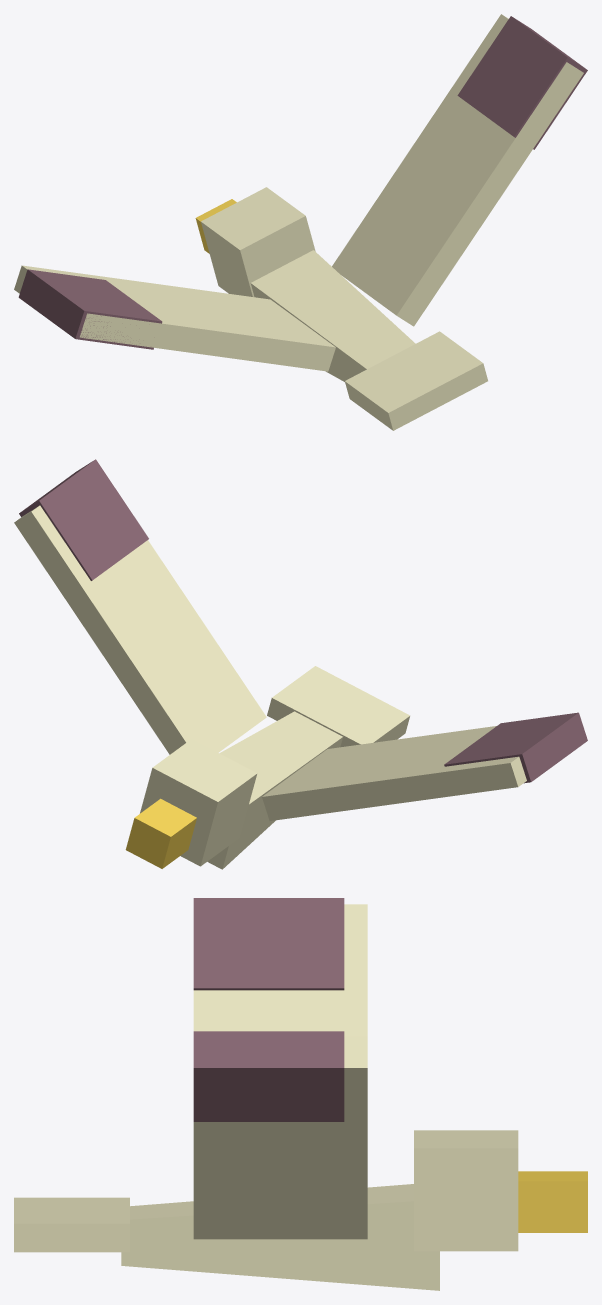
The model's file is gull.glb.
3 renders of one model, top to bottom at view 1: azimuth 30°, elevation 25°; view 2: azimuth 150°, elevation 25°; view 3: azimuth 270°, elevation 25°, orthographic. The views are drawn at different scales.
Visible parts, largest first — view 1: WingL, Body, WingR; view 2: WingL, Body, WingR; view 3: Body, WingL, WingR.
Boxes of the visible parts, bbox=[...] form: WingL: bbox=[332, 14, 587, 326]; Body: bbox=[195, 187, 487, 430]; WingR: bbox=[14, 265, 335, 371]; WingL: bbox=[14, 459, 266, 754]; Body: bbox=[125, 666, 409, 869]; WingR: bbox=[262, 712, 587, 820]; Body: bbox=[14, 1130, 587, 1290]; WingL: bbox=[193, 1031, 367, 1239]; WingR: bbox=[193, 898, 367, 1036].
Bounding box in the file's own units: 1.36 × 0.731 × 0.99.
